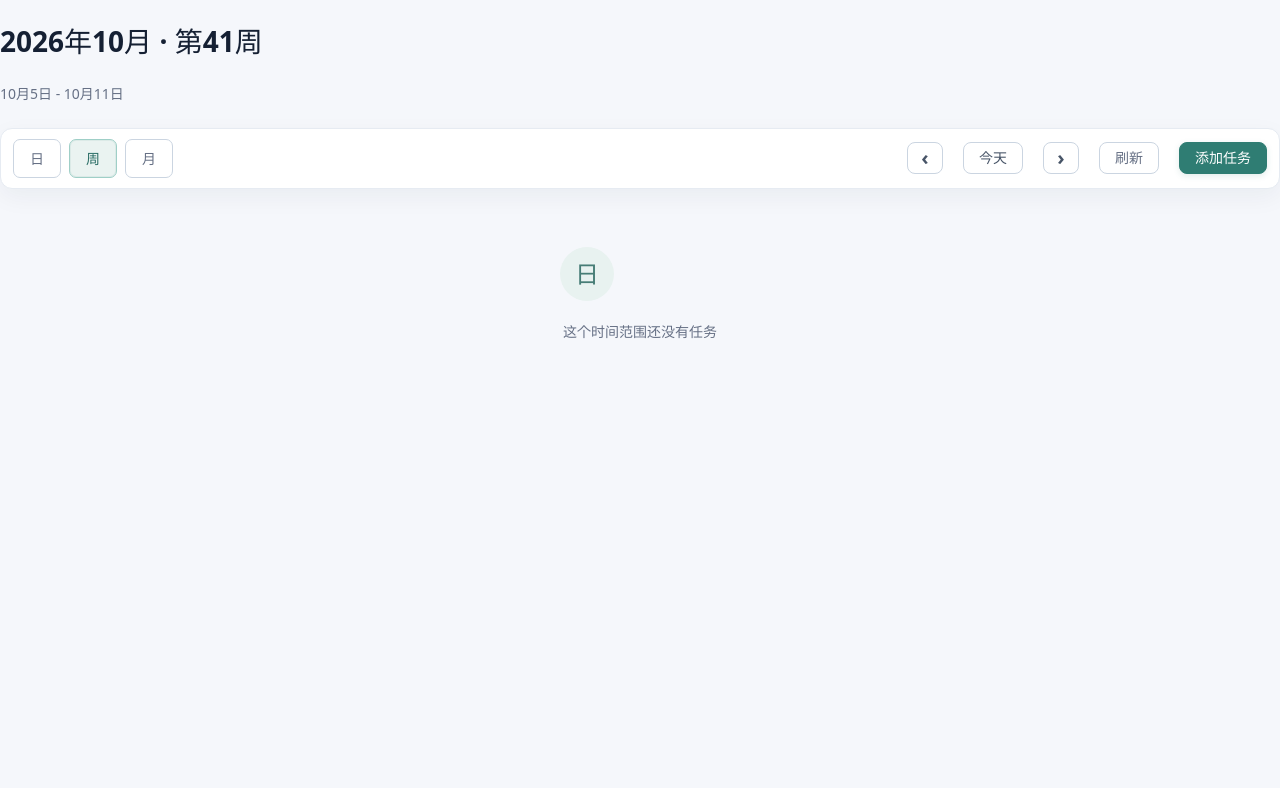
Test case: Calendar integration › renders the existing Day View when a Month date has no tasks
The image size is (1280, 788).
Click the button "月": click(149, 158) 125,139 -> 173,178
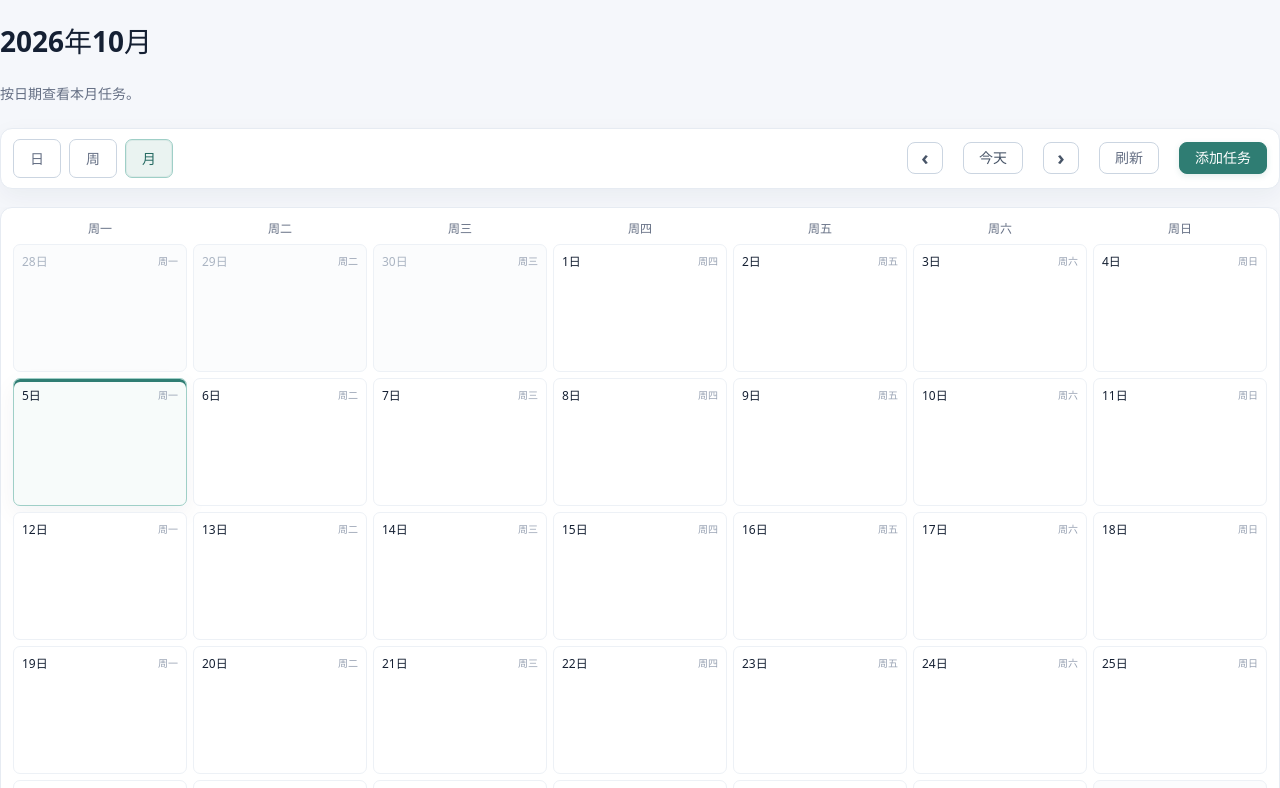
Click the button with aria-label "查看 2026-10-05 的日视图": click(100, 396) 22,387 -> 178,405
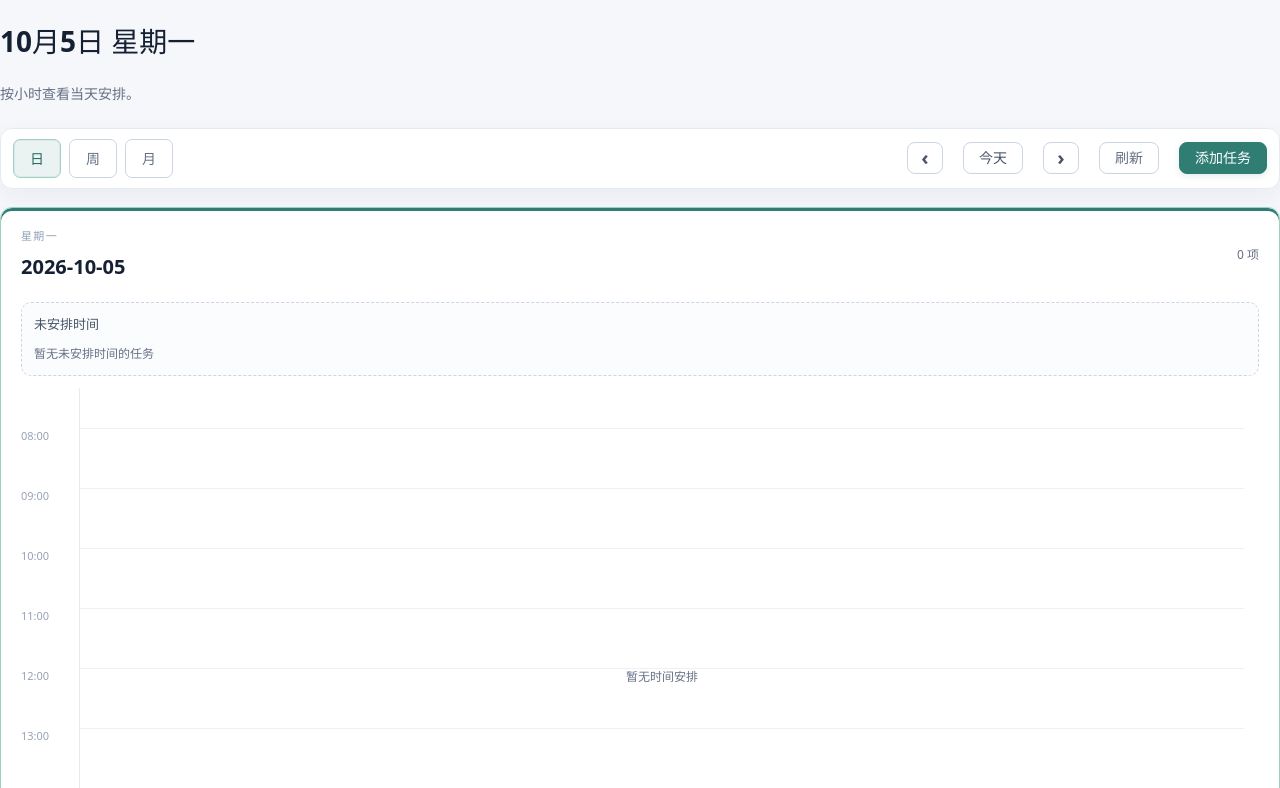
Check: the text "这个时间范围还没有任务" is not shown
Check: the element with class "calendar-day-heading" shows "0 项", box 1237,246 -> 1259,263
